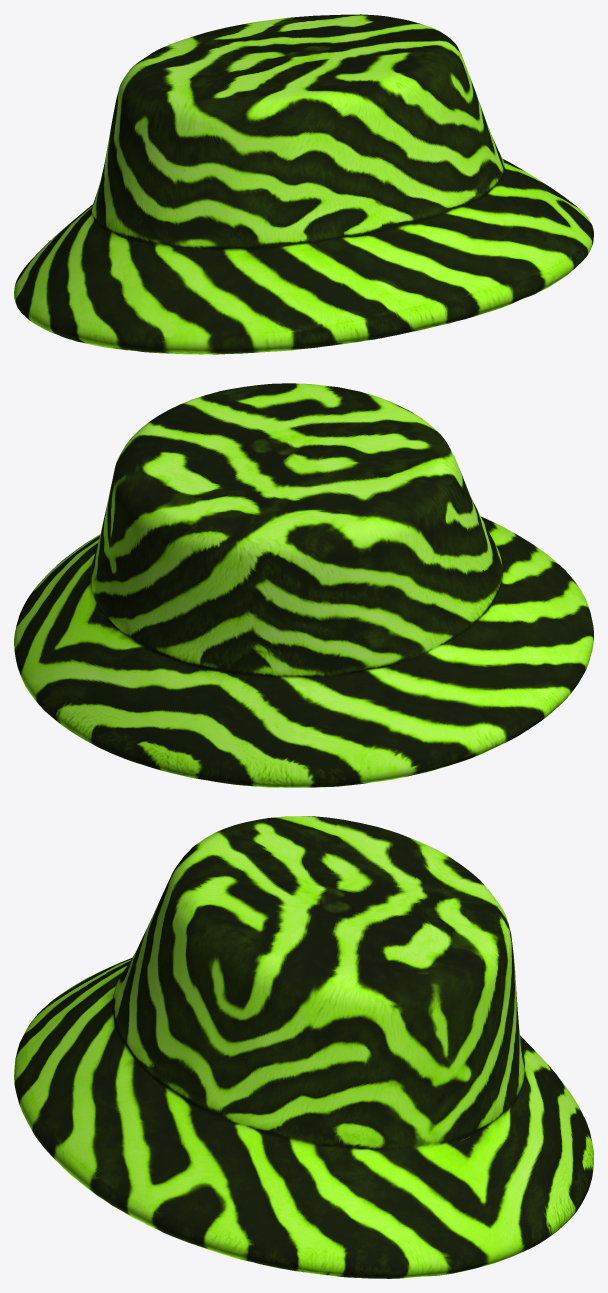
File: Fuzzy-Bucket-Green-Stealth v2.glb
3 renders of one model, top to bottom at view 1: azimuth 30°, elevation 25°; view 2: azimuth 150°, elevation 25°; view 3: azimuth 270°, elevation 25°, orthographic. The views are drawn at different scales.
Visible parts, largest first — view 1: Fuzzy-Bucket-Green-Stealth v2; view 2: Fuzzy-Bucket-Green-Stealth v2; view 3: Fuzzy-Bucket-Green-Stealth v2.
Boxes of the visible parts, box(x1,y1,x2,y2) form: Fuzzy-Bucket-Green-Stealth v2: box(14, 14, 593, 354); Fuzzy-Bucket-Green-Stealth v2: box(14, 383, 593, 787); Fuzzy-Bucket-Green-Stealth v2: box(14, 816, 593, 1278).
Bounding box in the file's own units: 0.7047 × 0.336 × 0.5977.
1 material, 1 textured.
